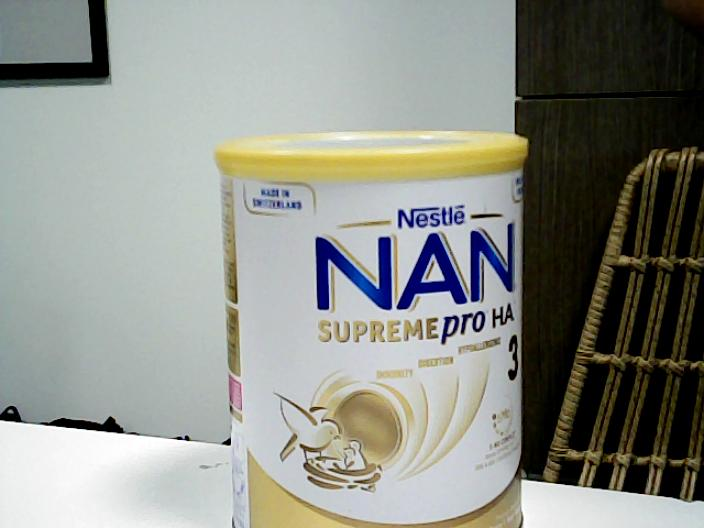Babymilk-powder_800-899g_Halal_NonHealthy: (211, 127, 526, 528)
